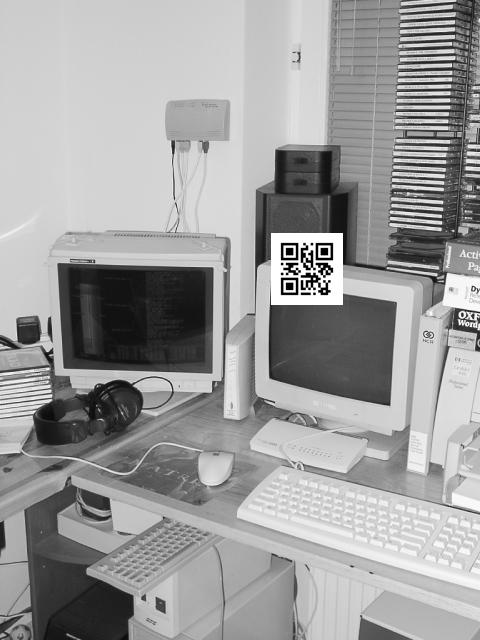qr_code: (271, 233, 343, 304)
